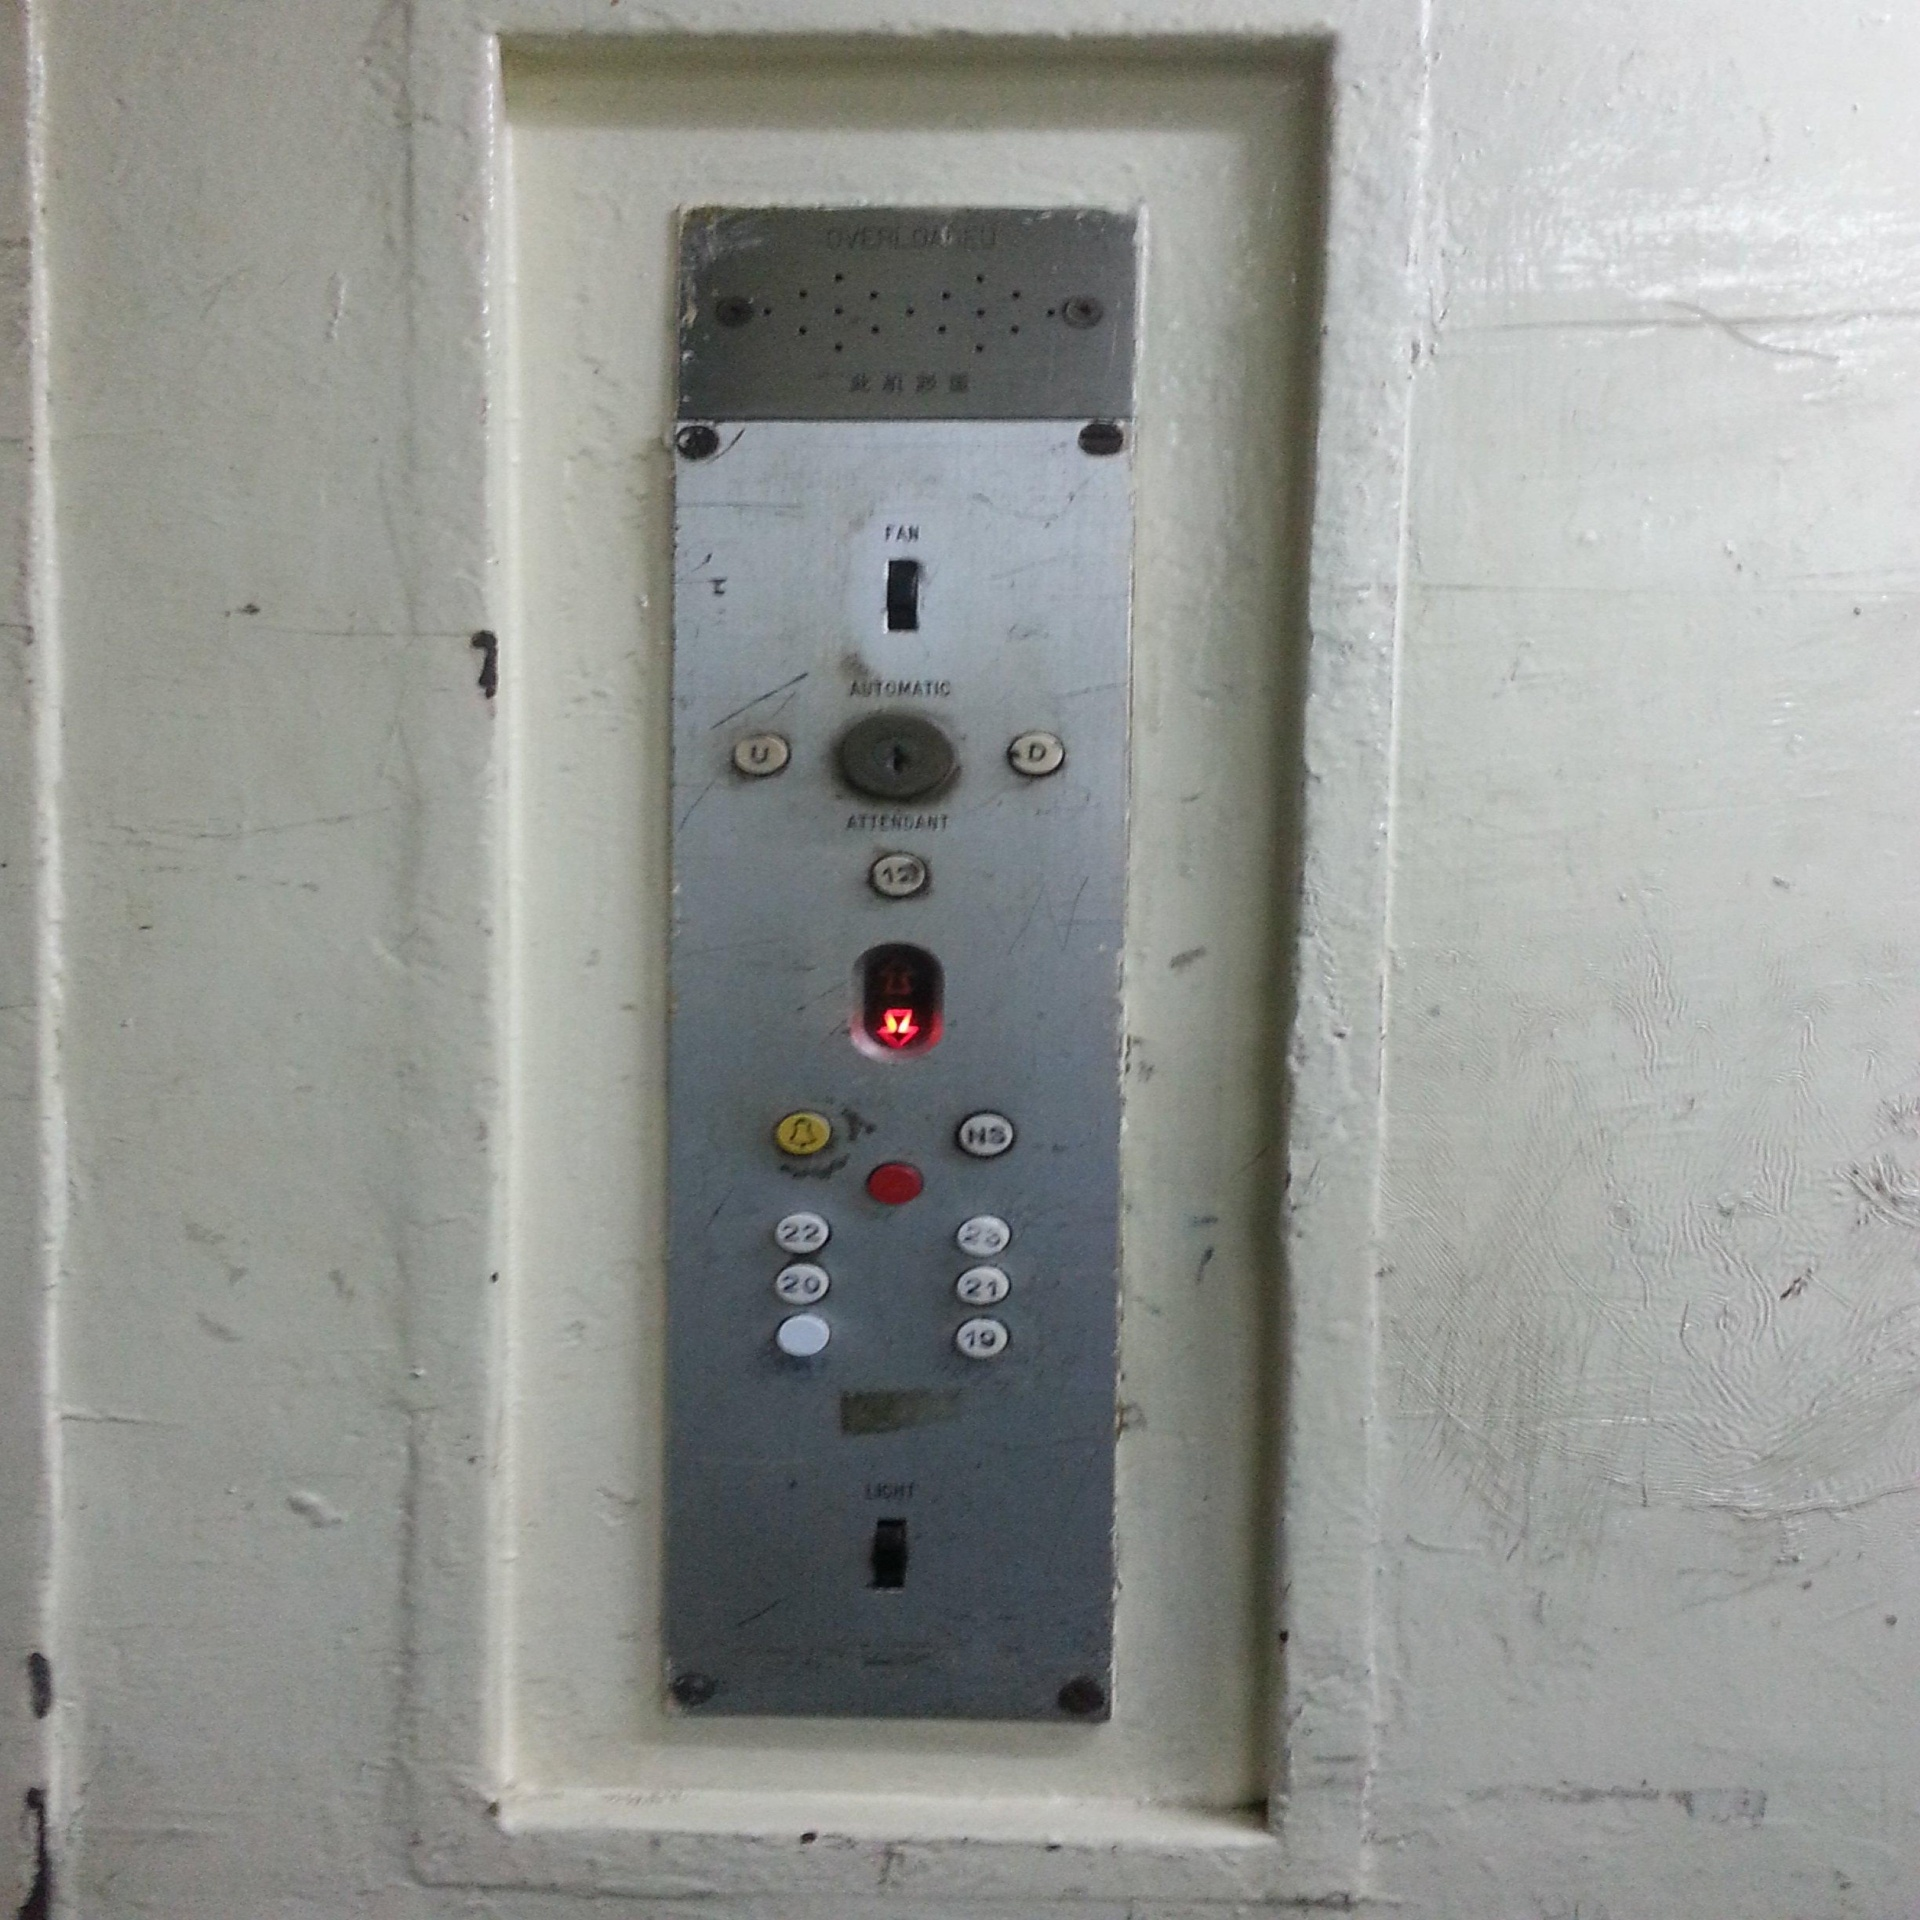12: (863, 849, 932, 904)
19: (953, 1315, 1013, 1361)
20: (772, 1261, 832, 1305)
21: (953, 1262, 1013, 1306)
22: (772, 1211, 833, 1257)
23: (953, 1213, 1013, 1257)
D: (1002, 726, 1071, 782)
NS: (955, 1109, 1016, 1162)
U: (730, 730, 793, 779)
alarm: (772, 1106, 835, 1159)
empty: (862, 1155, 925, 1208), (774, 1313, 833, 1357)
keyhole: (833, 707, 960, 807)
speaker: (663, 195, 1148, 431)
unknown: (842, 937, 949, 1060)
